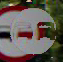No overtake: (5, 7, 62, 56)
